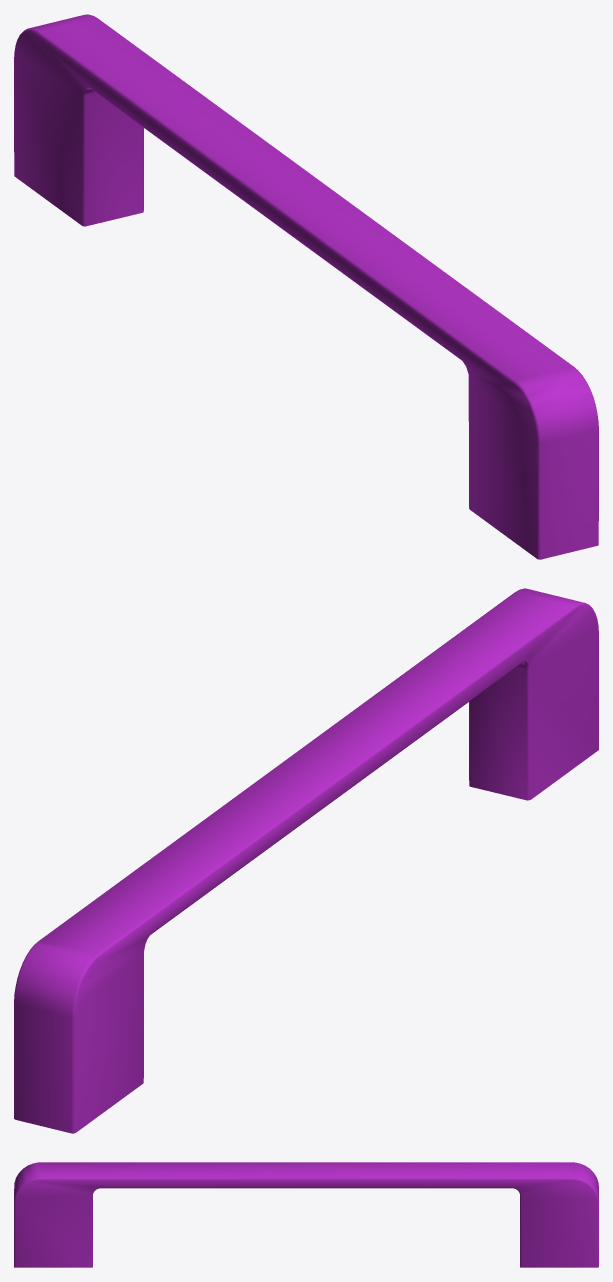
The model's file is rychka_4_1.glb.
3 renders of one model, top to bottom at view 1: azimuth 30°, elevation 25°; view 2: azimuth 150°, elevation 25°; view 3: azimuth 270°, elevation 25°, orthographic. The views are drawn at different scales.
Visible parts, largest first — view 1: L4.009.128BL; view 2: L4.009.128BL; view 3: L4.009.128BL.
Boxes of the visible parts, x1=… form: L4.009.128BL: x1=14, y1=14, x2=598, y2=559; L4.009.128BL: x1=14, y1=588, x2=598, y2=1133; L4.009.128BL: x1=14, y1=1162, x2=598, y2=1267.
Bounding box in the file's own units: 0.9988 × 2.5 × 14.8.
